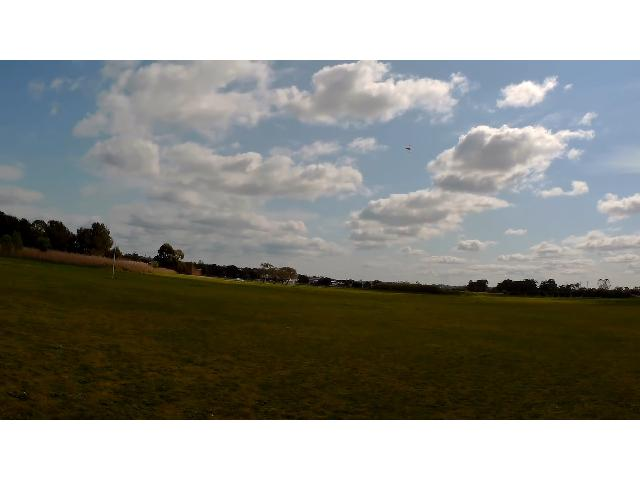Anti-Drone: (398, 135, 422, 157)
